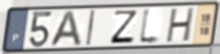5: (28, 11, 54, 49)
A: (47, 9, 84, 48)
H: (165, 6, 197, 44)
I: (85, 9, 97, 47)
L: (137, 5, 163, 46)
Z: (108, 9, 139, 45)
